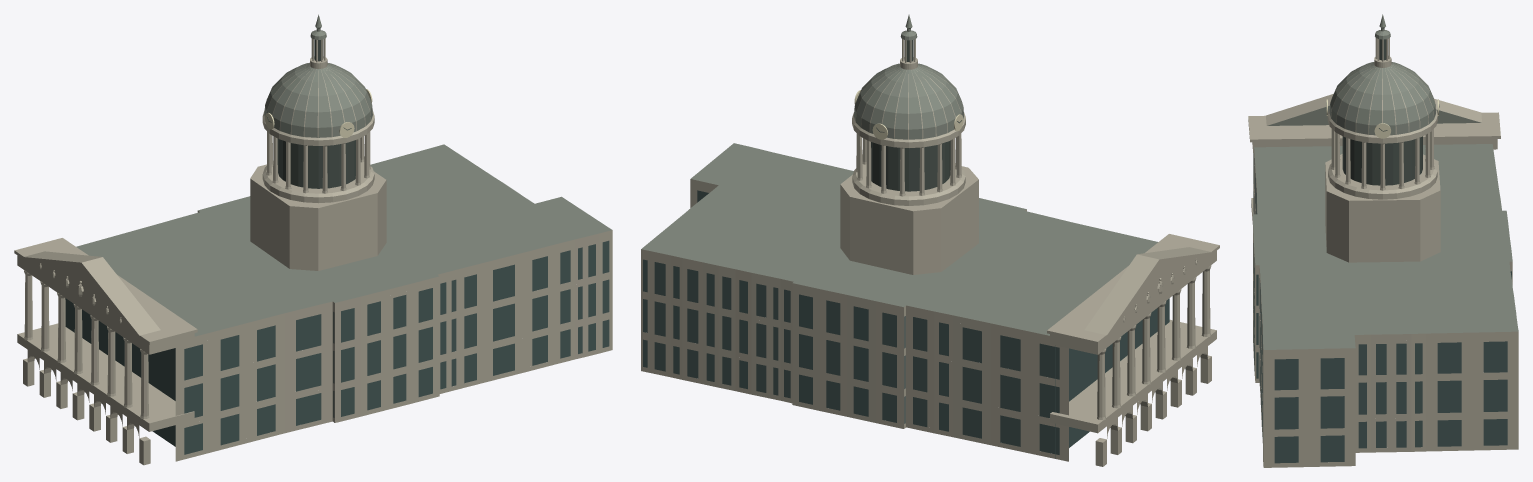
The model's file is nottingham-council-house-far.glb.
3 renders of one model, left to right at view 1: azimuth 30°, elevation 25°; view 2: azimuth 150°, elevation 25°; view 3: azimuth 270°, elevation 25°, orthographic. The views are drawn at different scales.
Visible parts, largest first — view 1: nottingham-council-house-0-stone, nottingham-council-house-0-roof, nottingham-council-house-0-glass, nottingham-council-house-0-iron; view 2: nottingham-council-house-0-stone, nottingham-council-house-0-roof, nottingham-council-house-0-glass, nottingham-council-house-0-iron; view 3: nottingham-council-house-0-roof, nottingham-council-house-0-stone, nottingham-council-house-0-glass, nottingham-council-house-0-iron.
Part boxes in pixels (left/top/right/bottom): nottingham-council-house-0-stone: left=14, top=38, right=612, bottom=465; nottingham-council-house-0-roof: left=76, top=14, right=611, bottom=336; nottingham-council-house-0-glass: left=65, top=240, right=609, bottom=454; nottingham-council-house-0-iron: left=267, top=39, right=355, bottom=188; nottingham-council-house-0-stone: left=641, top=39, right=1219, bottom=466; nottingham-council-house-0-roof: left=641, top=14, right=1157, bottom=335; nottingham-council-house-0-glass: left=643, top=190, right=1169, bottom=458; nottingham-council-house-0-iron: left=871, top=40, right=961, bottom=191; nottingham-council-house-0-roof: left=1253, top=14, right=1518, bottom=349; nottingham-council-house-0-stone: left=1248, top=38, right=1518, bottom=467; nottingham-council-house-0-glass: left=1253, top=153, right=1511, bottom=463; nottingham-council-house-0-iron: left=1326, top=39, right=1439, bottom=185.
Size of the model in its own units: 87.65 by 60.96 by 43.67.
